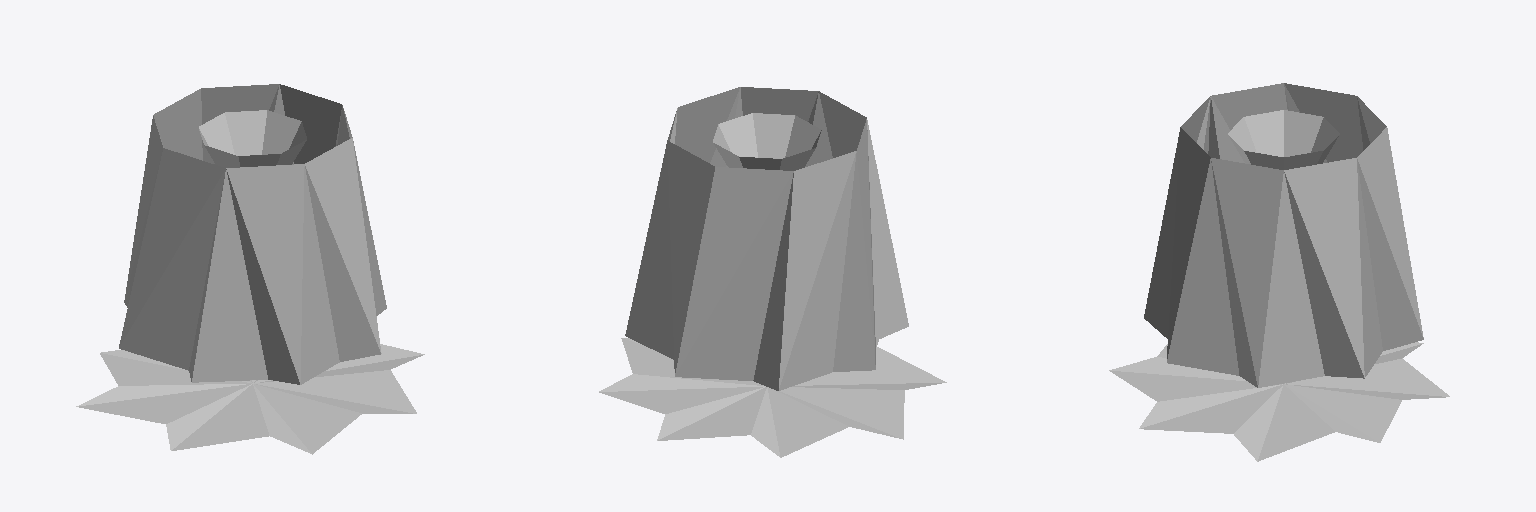
The model's file is treetrunk.obj.
The picture shows the model from 3 angles: view 1: azimuth 30°, elevation 25°; view 2: azimuth 150°, elevation 25°; view 3: azimuth 270°, elevation 25°; orthographic projection.
Parts seen in each view (by area): view 1: Cylinder; view 2: Cylinder; view 3: Cylinder.
Part boxes in pixels (bbox=[...]): Cylinder: bbox=[76, 84, 424, 454]; Cylinder: bbox=[599, 87, 946, 457]; Cylinder: bbox=[1109, 83, 1449, 461].
Bounding box in the file's own units: 5.37 × 4.18 × 5.04.